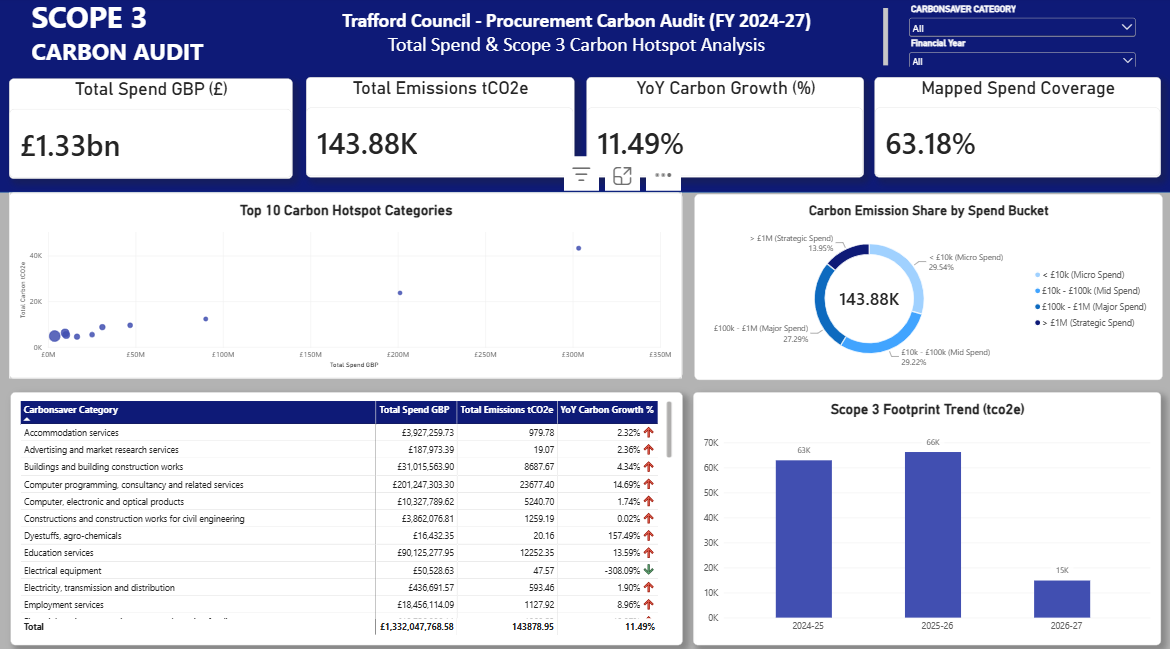

The dashboard page shown, as its layout file describes it:
{"tool":"powerbi","page":{"name":"Page 1","canvas":[1920,1080],"ordinal":0},"visuals":[{"type":"shape","box":[0,0,1920.1,319.6],"z":2000},{"type":"cardVisual","title":"Total Spend GBP (£)","fields":{"Data":["public trafford_spend_emissions_3yr.Total Spend GBP"]},"box":[19.5,134.2,461.1,163.5],"z":3000},{"type":"cardVisual","title":"Total Emissions tCO2e","fields":{"Data":["public trafford_spend_emissions_3yr.Total Emissions tCO2e"]},"box":[502.6,131.8,436.7,163.5],"z":4000},{"type":"cardVisual","title":"YoY Carbon Growth (%)","fields":{"Data":["public trafford_spend_emissions_3yr.YoY Carbon Growth %"]},"box":[958.8,131.8,451.4,163.5],"z":5000},{"type":"lineStackedColumnComboChart","title":"Scope 3 Footprint Trend (tco2e)","fields":{"Category":["public trafford_spend_emissions_3yr.Financial_Year"],"Y":["public trafford_spend_emissions_3yr.Total Emissions tCO2e"]},"box":[1132.1,644.1,761.2,412.3],"z":6000},{"type":"scatterChart","title":"Top 10 Carbon Hotspot Categories","fields":{"Category":["public trafford_spend_emissions_3yr.Carbonsaver_Category"],"Size":["public trafford_spend_emissions_3yr.Portfolio Carbon Intensity"],"X":["public trafford_spend_emissions_3yr.Total Spend GBP"],"Y":["public trafford_spend_emissions_3yr.Total Emissions tCO2e"]},"box":[19.5,319.6,1095.5,302.5],"z":7000},{"type":"pivotTable","fields":{"Rows":["public trafford_spend_emissions_3yr.Carbonsaver_Category"],"Values":["public trafford_spend_emissions_3yr.Total Spend GBP","public trafford_spend_emissions_3yr.Total Emissions tCO2e","public trafford_spend_emissions_3yr.YoY Carbon Growth %"]},"box":[22,644.1,1093,412.3],"z":8000},{"type":"slicer","fields":{"Values":["public trafford_spend_emissions_3yr.Carbonsaver_Category"]},"box":[1478.5,12.2,378.2,56.1],"z":9000},{"type":"textbox","box":[444,19.5,1005.2,95.2],"z":10000},{"type":"cardVisual","title":"Mapped Spend Coverage","fields":{"Data":["public trafford_spend_emissions_3yr.Mapped Spend Share %"]},"box":[1427.3,131.8,466,163.5],"z":11000},{"type":"slicer","fields":{"Values":["public trafford_spend_emissions_3yr.Financial_Year"]},"box":[1478.5,68.3,378.2,46.4],"z":12000},{"type":"textbox","box":[56.1,0,405,114.7],"z":13000},{"type":"donutChart","title":"Carbon Emission Share by Spend Bucket","fields":{"Category":["public trafford_spend_emissions_3yr.Spend Bucket"],"Y":["public trafford_spend_emissions_3yr.Total Emissions tCO2e"]},"box":[1134.5,322.1,761.2,302.5],"z":13001}]}

Visuals, with their boxes in screenshot pixels (x1, y1, x2, y2), scaled from the page's 1920x1080 canvas onto the 1170x649 screenshot:
shape: [left=0, top=0, right=1169, bottom=192]
"Total Spend GBP (£)" cardVisual: [left=12, top=81, right=293, bottom=179]
"Total Emissions tCO2e" cardVisual: [left=306, top=79, right=572, bottom=177]
"YoY Carbon Growth (%)" cardVisual: [left=584, top=79, right=859, bottom=177]
"Scope 3 Footprint Trend (tco2e)" lineStackedColumnComboChart: [left=690, top=387, right=1154, bottom=635]
"Top 10 Carbon Hotspot Categories" scatterChart: [left=12, top=192, right=679, bottom=374]
pivotTable - public trafford_spend_emissions_3yr.Carbonsaver_Category x public trafford_spend_emissions_3yr.Total Spend GBP: [left=13, top=387, right=679, bottom=635]
slicer - public trafford_spend_emissions_3yr.Carbonsaver_Category: [left=901, top=7, right=1131, bottom=41]
textbox: [left=271, top=12, right=883, bottom=69]
"Mapped Spend Coverage" cardVisual: [left=870, top=79, right=1154, bottom=177]
slicer - public trafford_spend_emissions_3yr.Financial_Year: [left=901, top=41, right=1131, bottom=69]
textbox: [left=34, top=0, right=281, bottom=69]
"Carbon Emission Share by Spend Bucket" donutChart: [left=691, top=194, right=1155, bottom=375]
